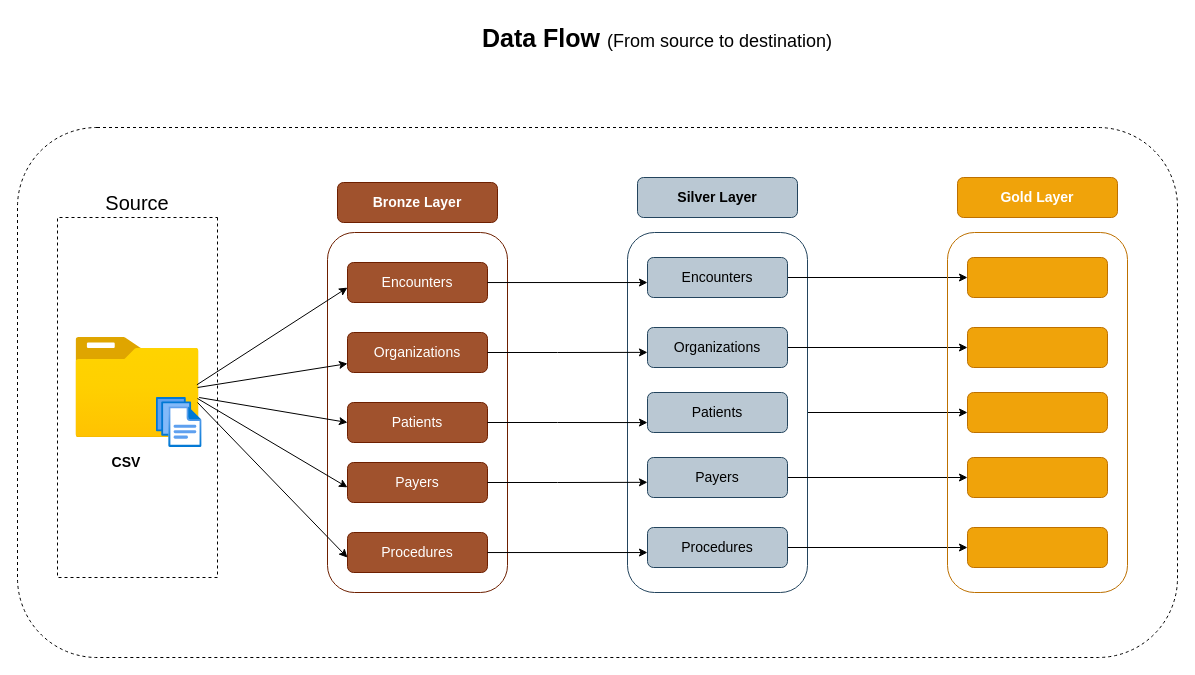
Some shapes in this 1195 by 675 pixel diagram are drawn without their labels. The centre of each missing label's shape, as x and y in pixels:
"dim.organizations" goes at [1037,347].
"dim.patients" goes at [1037,412].
"dim.payers" goes at [1037,477].
"fact.encounters" goes at [1037,277].
"fact.procedures" goes at [1037,547].
